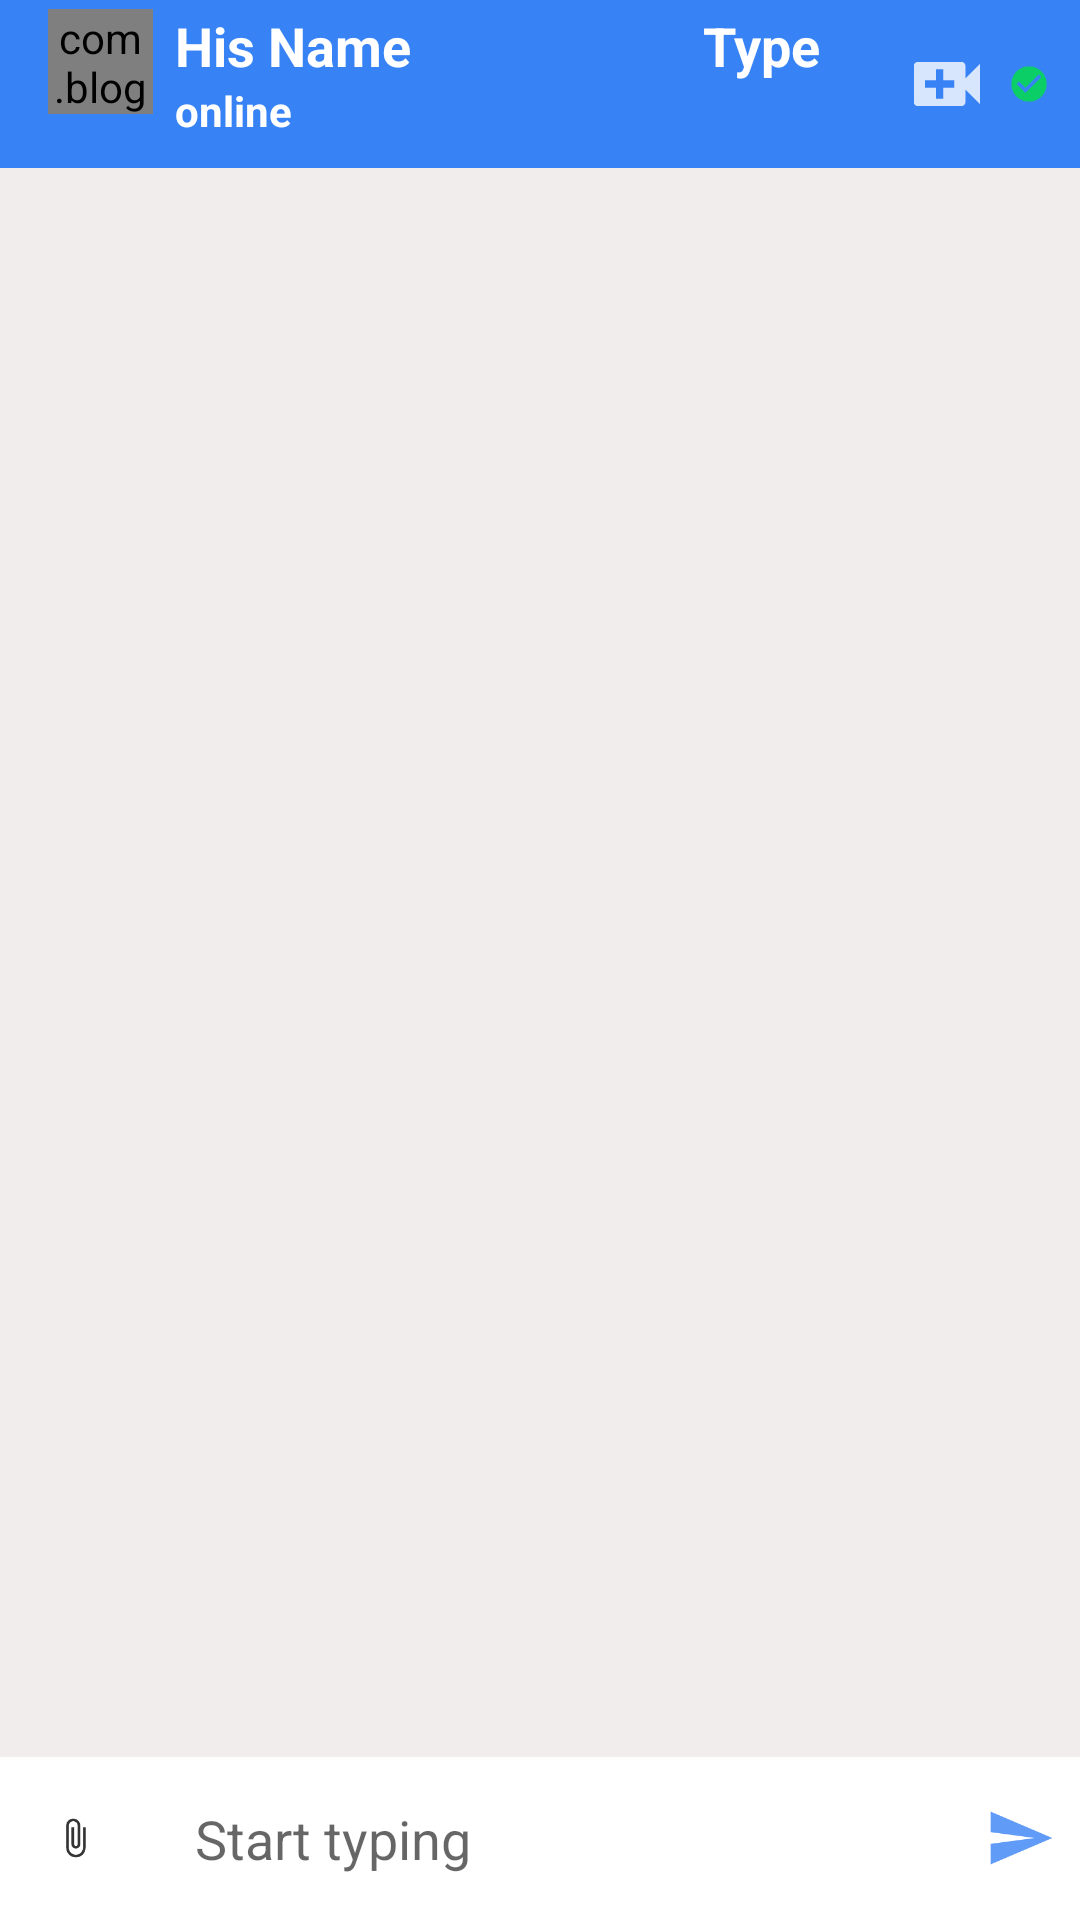

Screen size 1080*1920. Icon name, then its center in pixels as [x,y]:
attach: [76,1838]
send: [1021,1838]
